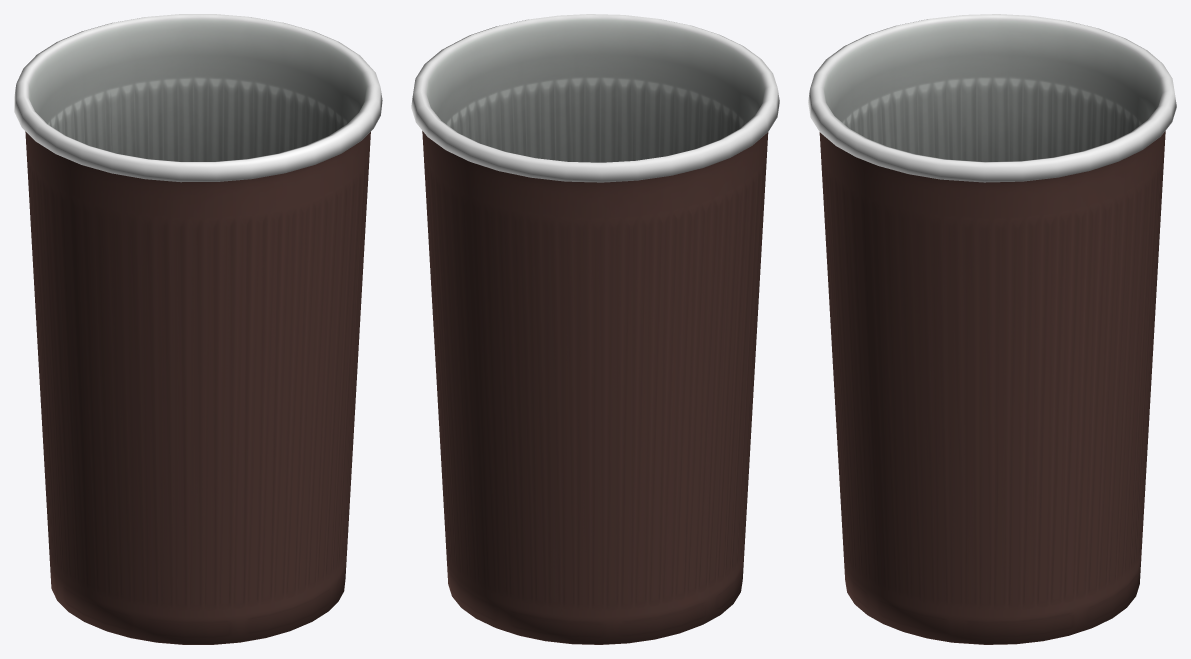
File: cup.gltf
The picture shows the model from 3 angles, left to right: view 1: azimuth 30°, elevation 25°; view 2: azimuth 150°, elevation 25°; view 3: azimuth 270°, elevation 25°; orthographic projection.
Parts seen in each view (by area): view 1: Plastic Cup; view 2: Plastic Cup; view 3: Plastic Cup.
Boxes of the visible parts, x1=… form: Plastic Cup: x1=14, y1=14, x2=382, y2=644; Plastic Cup: x1=411, y1=14, x2=779, y2=644; Plastic Cup: x1=808, y1=14, x2=1176, y2=644.
Size of the model in its own units: 154 by 229 by 154.
1 material, 1 textured.
